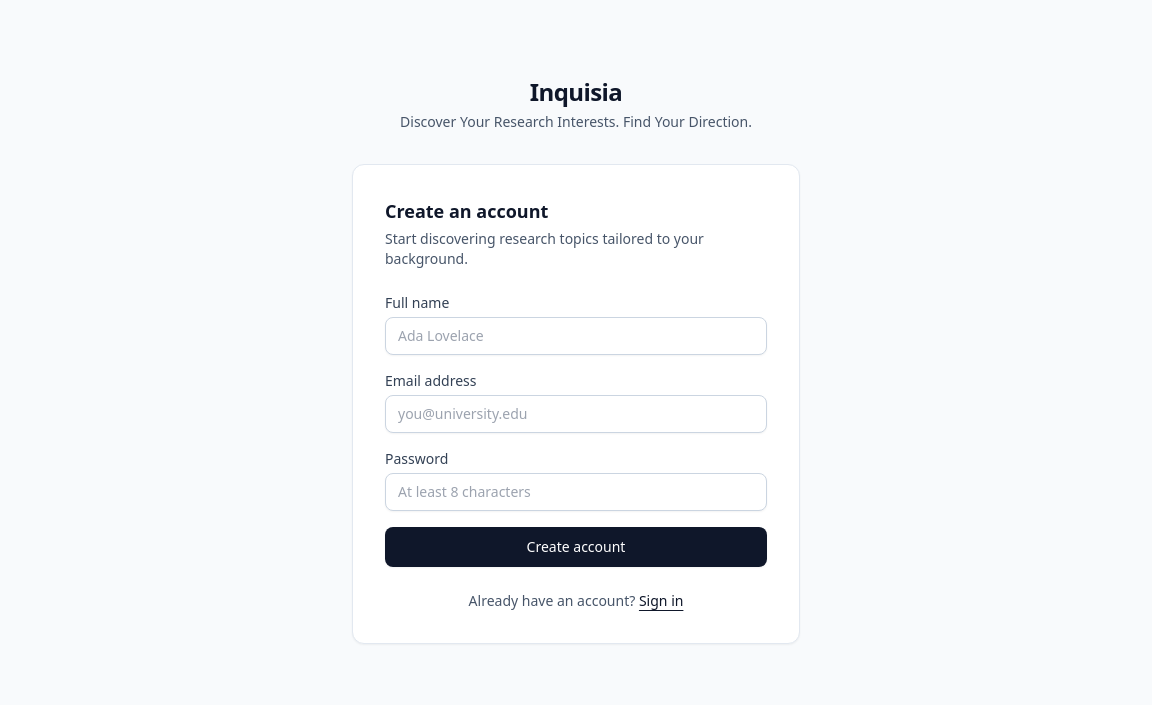
Scenario: Auth pages › registers a new user and logs out cleanly
Type "Grace Hopper" into the field labelled "Full name" at (576,336), box [385, 317, 767, 355]
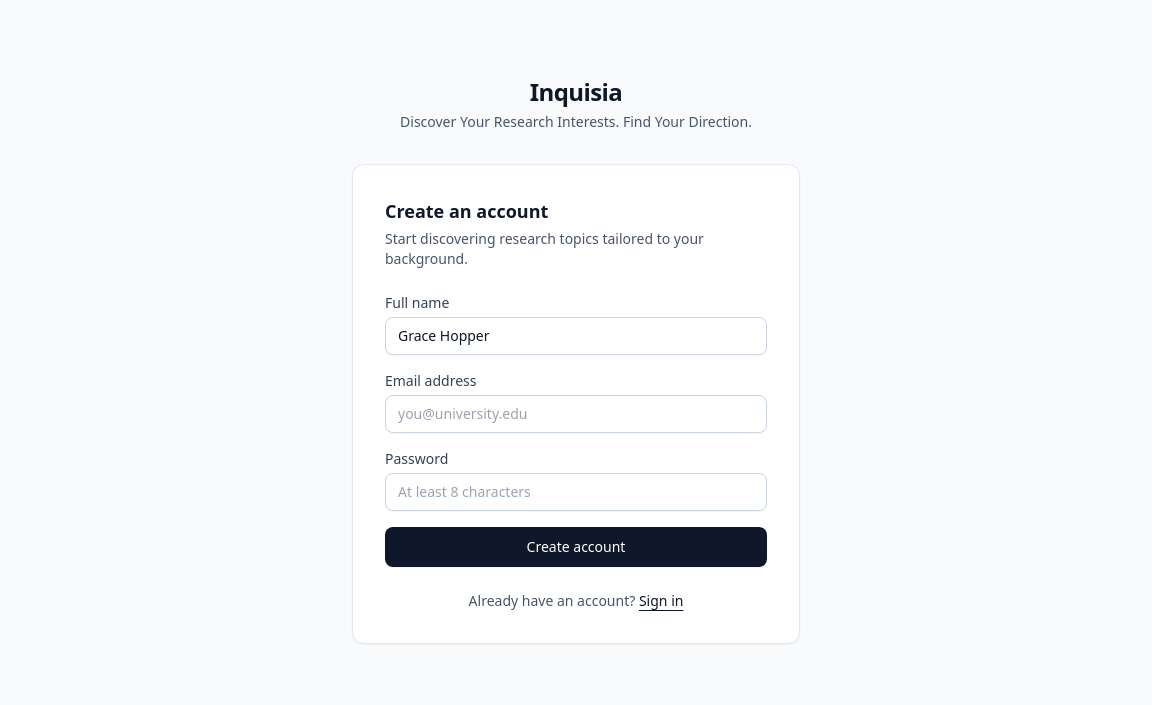
Type "grace@example.edu" into the field labelled "Email address" at (576,414), box [385, 395, 767, 433]
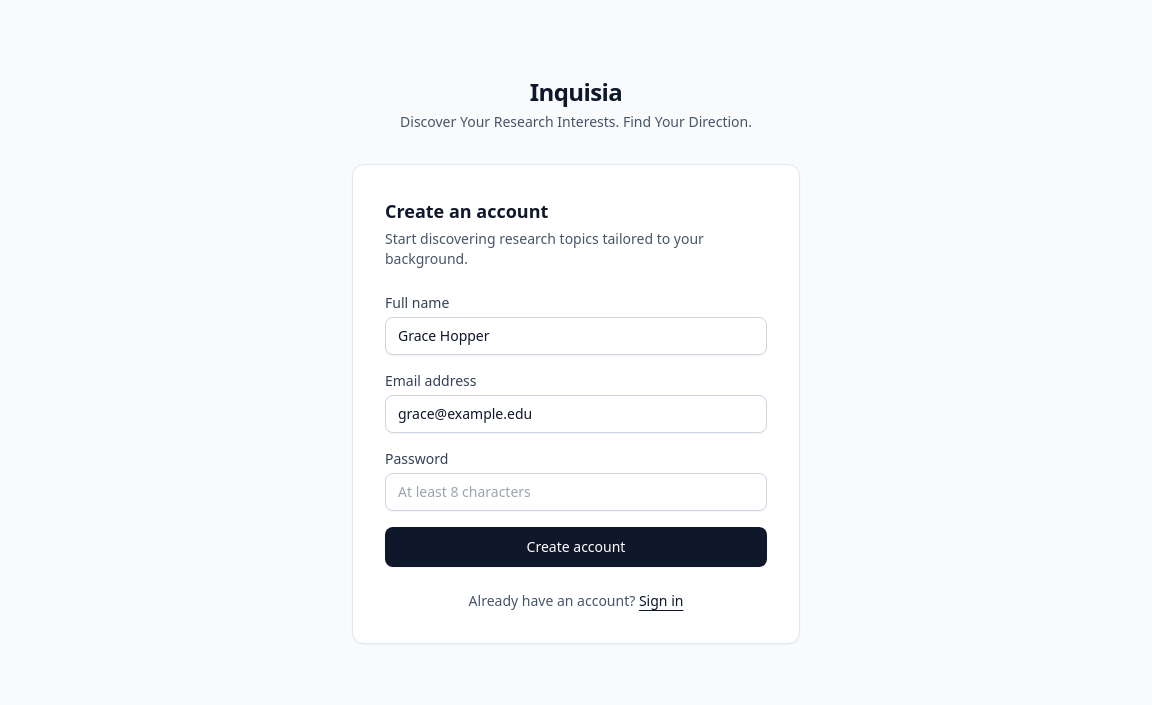
Type "StrongPassword123!" into the password field labelled "Password" at (576,492), box [385, 473, 767, 511]
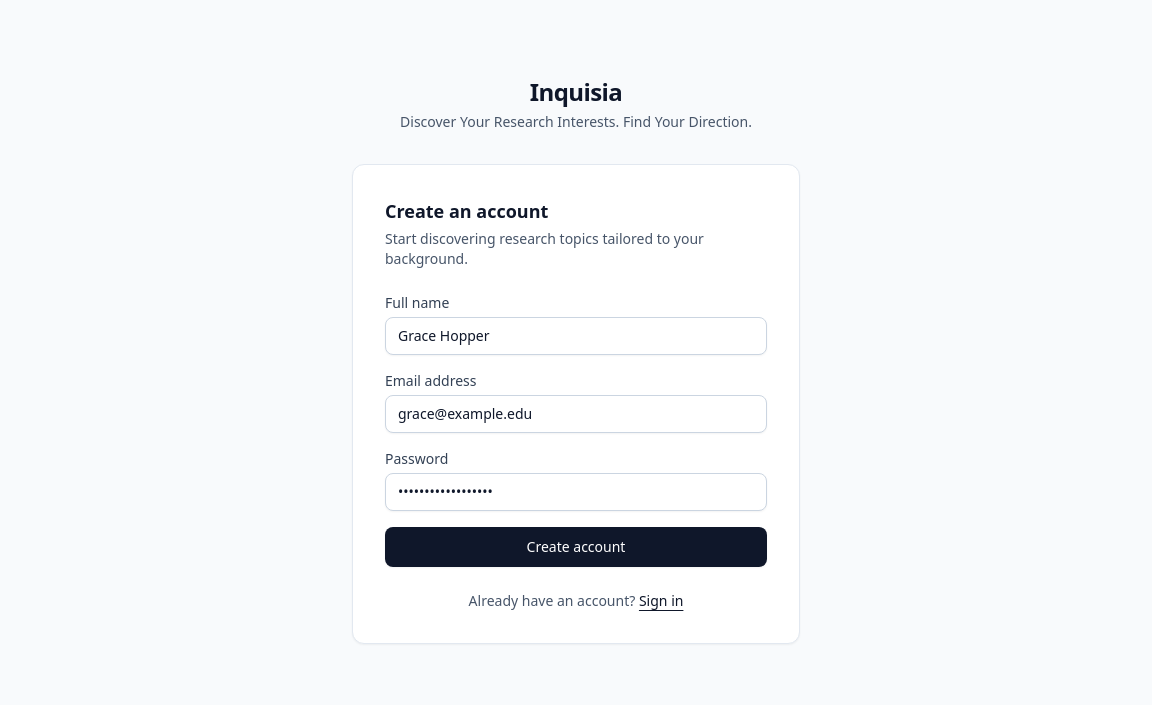
Click the button "Create account" at (576,547), box [385, 527, 767, 567]
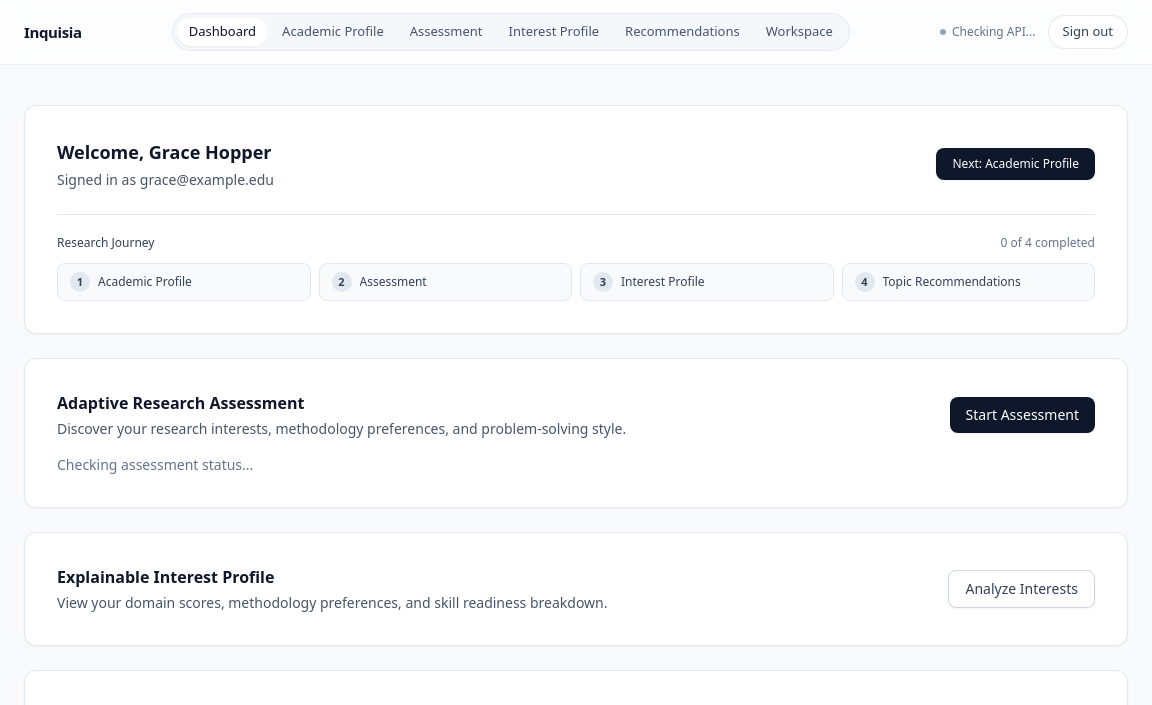
Expected: the heading "Welcome, Grace Hopper" is shown, [57, 138, 274, 166]
Click the button "Sign out" at (1088,32), box [1048, 15, 1128, 49]
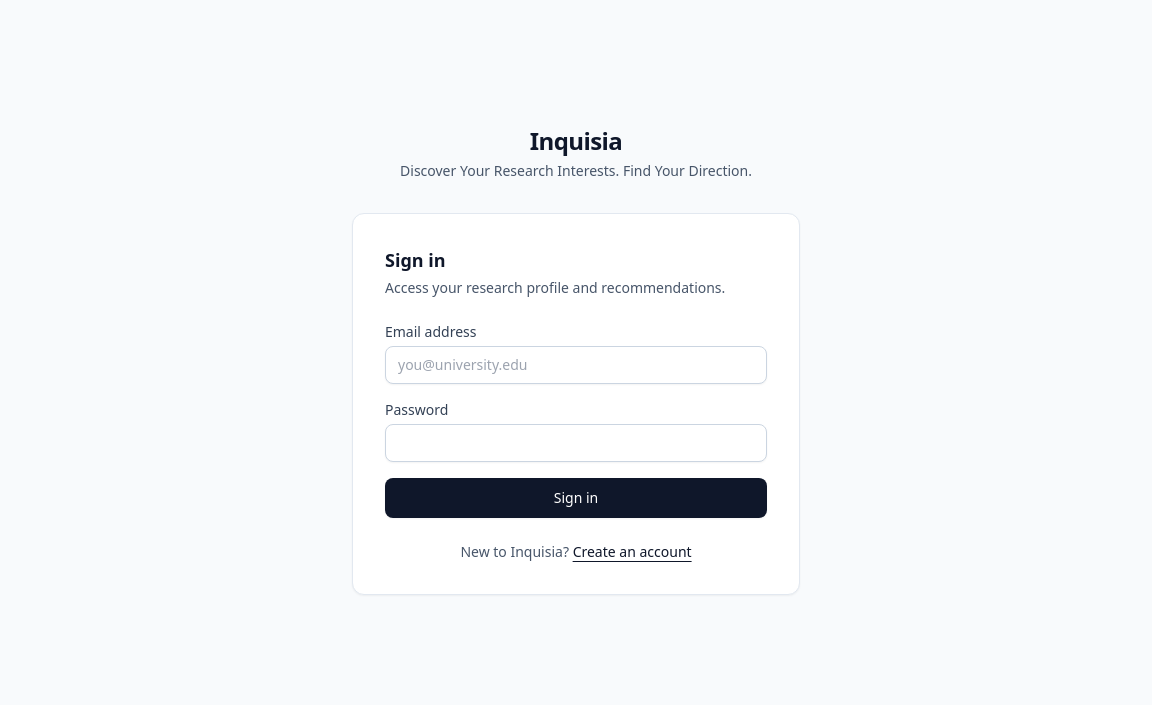
Expected: the heading "Sign in" is shown, [385, 248, 446, 272]
